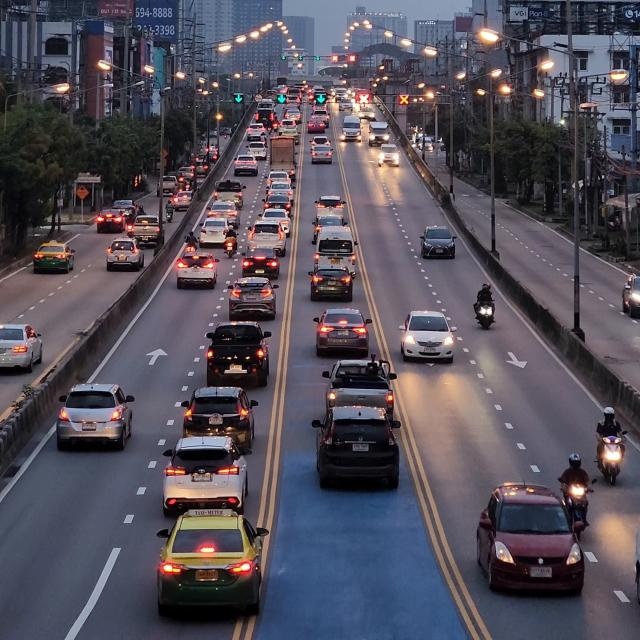Car: (474, 479, 588, 597), (155, 509, 275, 615), (310, 407, 404, 492), (165, 435, 251, 511), (56, 381, 136, 452), (205, 317, 272, 388), (321, 357, 397, 418), (184, 390, 262, 446), (400, 305, 458, 366), (311, 308, 376, 359), (0, 315, 48, 370), (228, 274, 279, 320), (170, 254, 221, 292), (311, 264, 360, 303), (420, 224, 461, 262), (107, 238, 148, 272)
